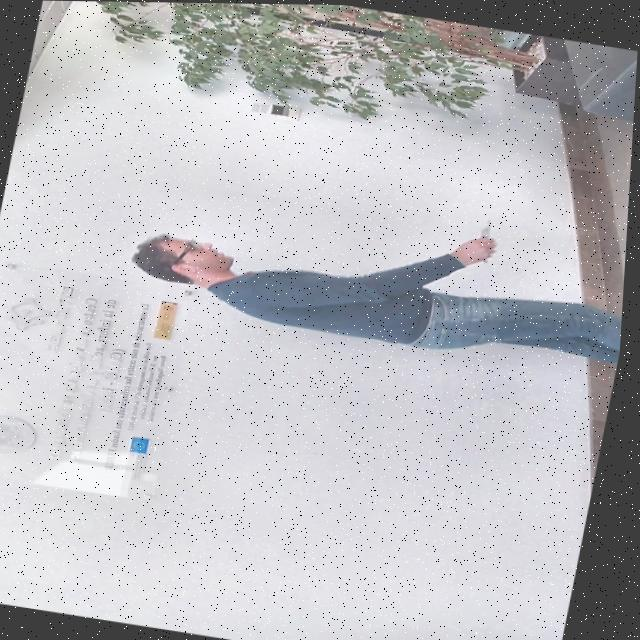knife: (481, 215, 495, 237)
